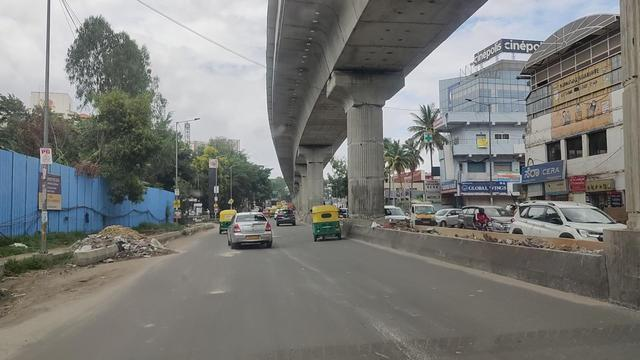LMV: (227, 209, 272, 252), (308, 206, 340, 243)
